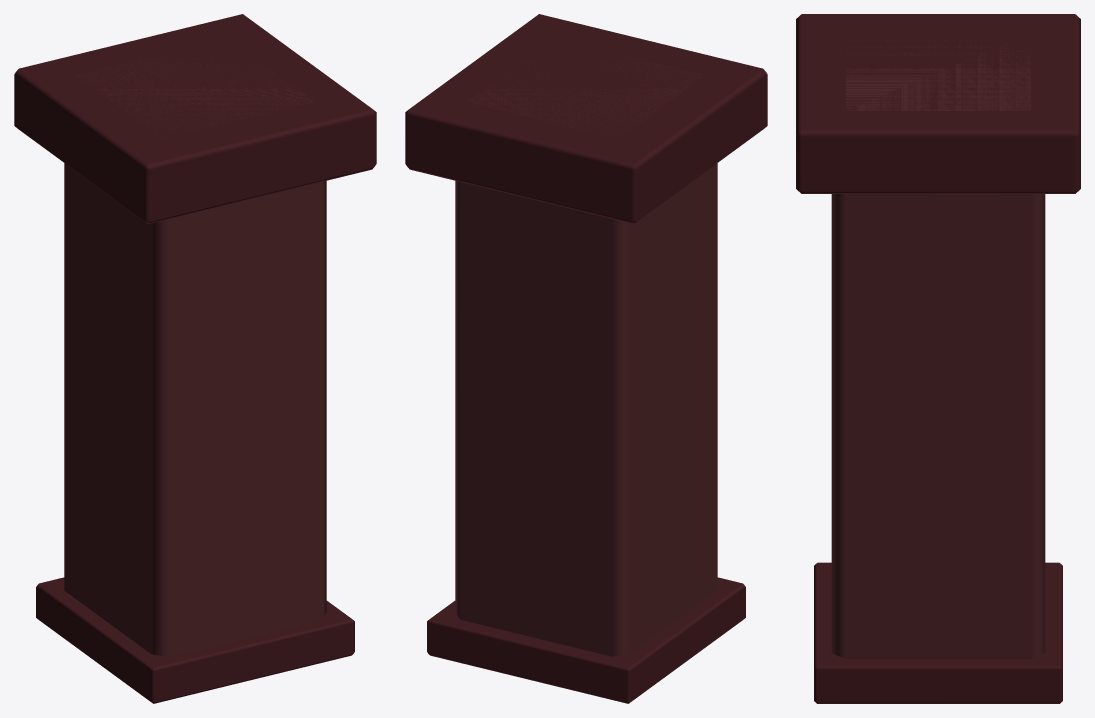
Rendered from living-cave-bridge-pier.db0e8ca4.glb.
3 renders of one model, left to right at view 1: azimuth 30°, elevation 25°; view 2: azimuth 150°, elevation 25°; view 3: azimuth 270°, elevation 25°, orthographic. The views are drawn at different scales.
Parts seen in each view (by area): view 1: body; view 2: body; view 3: body.
Boxes of the visible parts, x1=… form: body: x1=14, y1=14, x2=376, y2=703; body: x1=405, y1=14, x2=767, y2=703; body: x1=796, y1=14, x2=1080, y2=703.
Bounding box in the file's own units: 0.8 × 1.8 × 0.8.
